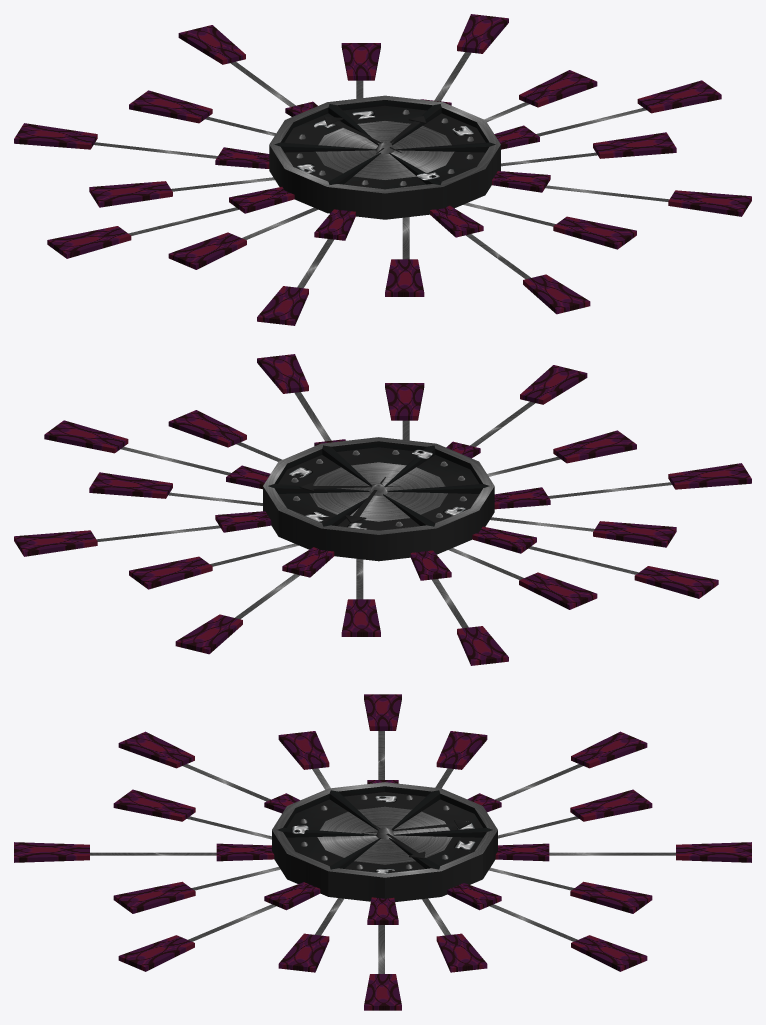
Rendered from Clock_01_L.FBX.
3 views of the same model, one above another, from view 1: azimuth 30°, elevation 25°; view 2: azimuth 150°, elevation 25°; view 3: azimuth 270°, elevation 25° (orthographic). The views are drawn at different scales.
Visible parts, largest first — view 1: Starburst_Clock; view 2: Starburst_Clock; view 3: Starburst_Clock.
Boxes of the visible parts, x1,y1,x2,y2 form: Starburst_Clock: (14,14,751,325); Starburst_Clock: (14,354,751,665); Starburst_Clock: (14,694,751,1010).
Size of the model in its own units: 78.3 by 3.32 by 78.3.
